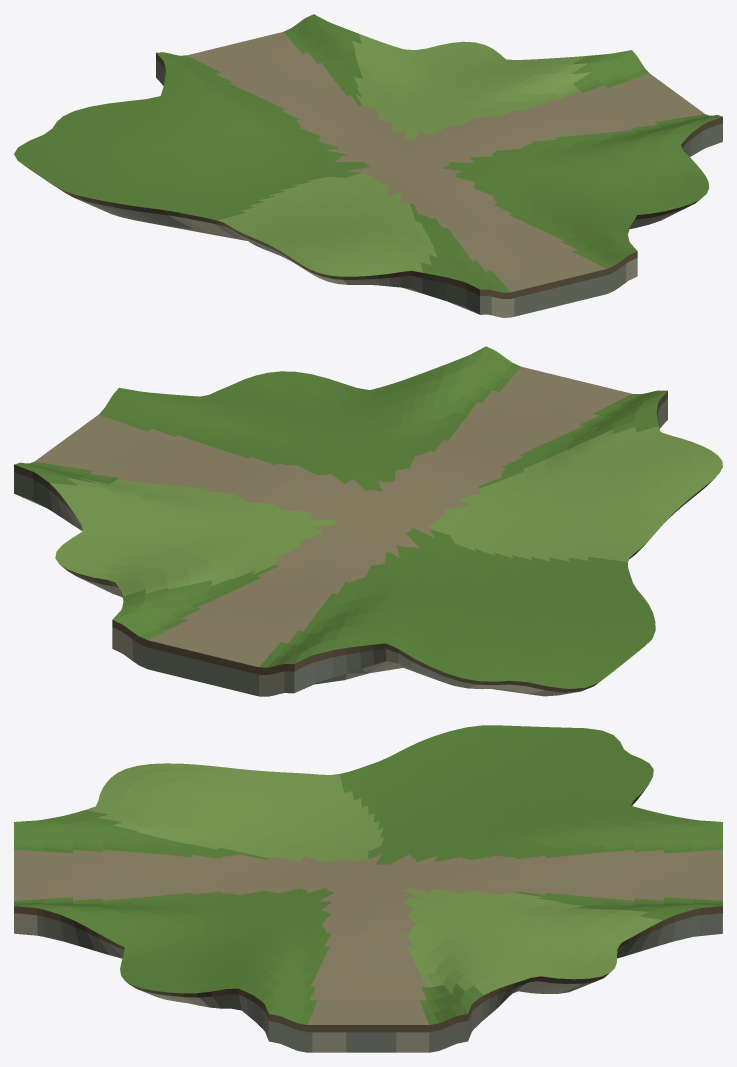
File: path_sunwash_fork_structure.fbx
The picture shows the model from 3 angles, top to bottom: view 1: azimuth 30°, elevation 25°; view 2: azimuth 150°, elevation 25°; view 3: azimuth 270°, elevation 25°; orthographic projection. The views are drawn at different scales.
Parts seen in each view (by area): view 1: chunk_path_sunwash_fork; view 2: chunk_path_sunwash_fork; view 3: chunk_path_sunwash_fork.
Part boxes in pixels (x1,y1,x2,y2): chunk_path_sunwash_fork: (14, 14, 722, 317); chunk_path_sunwash_fork: (14, 346, 722, 696); chunk_path_sunwash_fork: (14, 725, 722, 1052).
Bounding box in the file's own units: 256 × 45.27 × 256.
